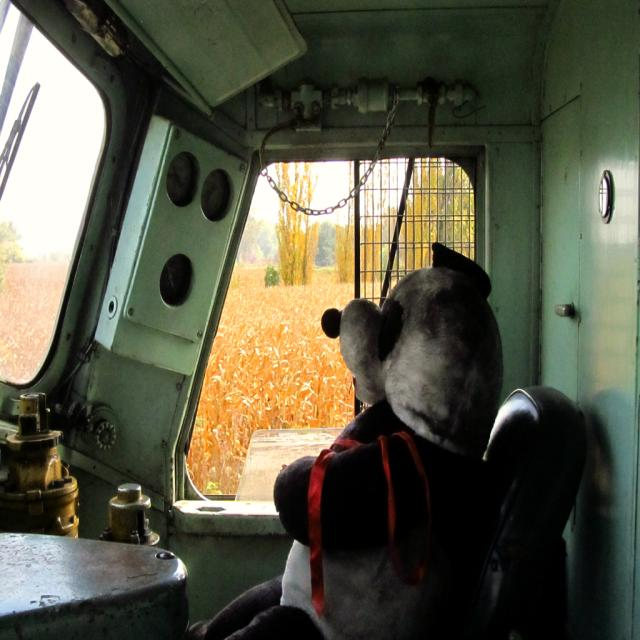panda: (194, 246, 507, 639)
